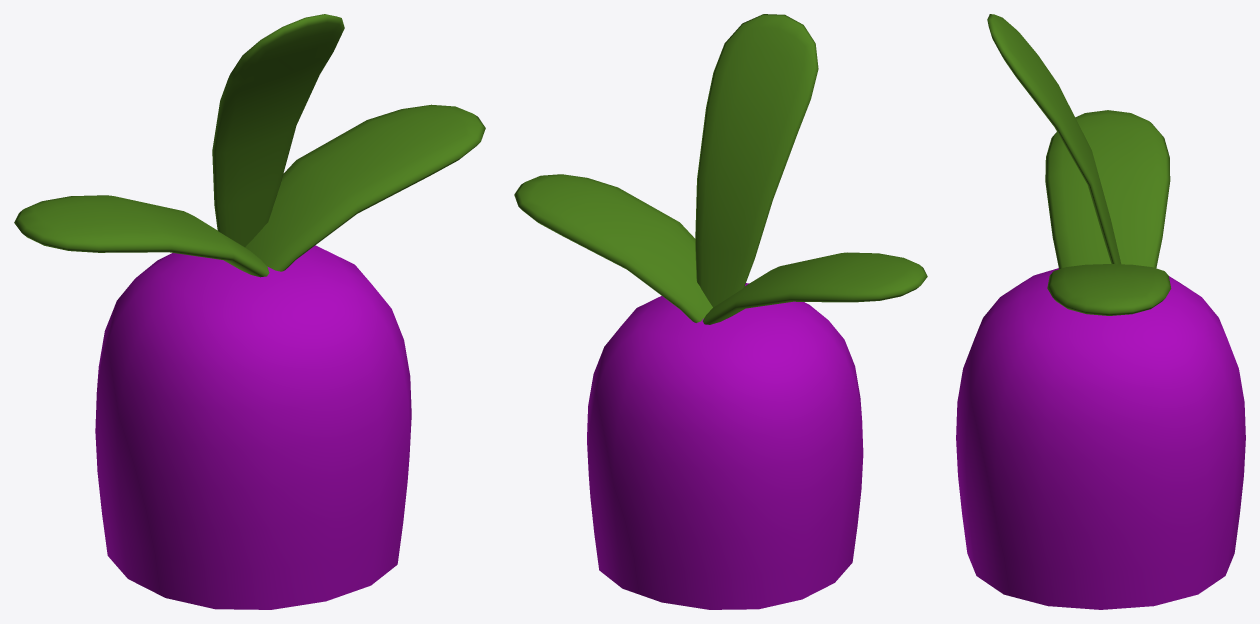
File: prop31.fbx
3 renders of one model, left to right at view 1: azimuth 30°, elevation 25°; view 2: azimuth 150°, elevation 25°; view 3: azimuth 270°, elevation 25°, orthographic. The views are drawn at different scales.
Visible parts, largest first — view 1: Cube.051; view 2: Cube.051; view 3: Cube.051.
Part boxes in pixels (x1,y1,x2,y2): Cube.051: (14, 14, 485, 609); Cube.051: (514, 14, 927, 609); Cube.051: (956, 14, 1245, 609).
Bounding box in the file's own units: 0.9678 × 0.577 × 1.17.
